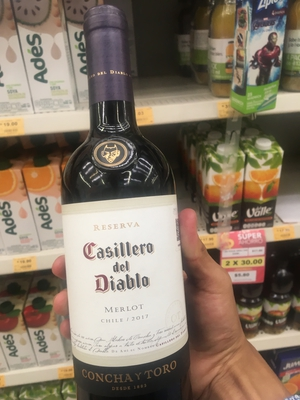casillero del diablo merlot: (55, 10, 194, 394)
